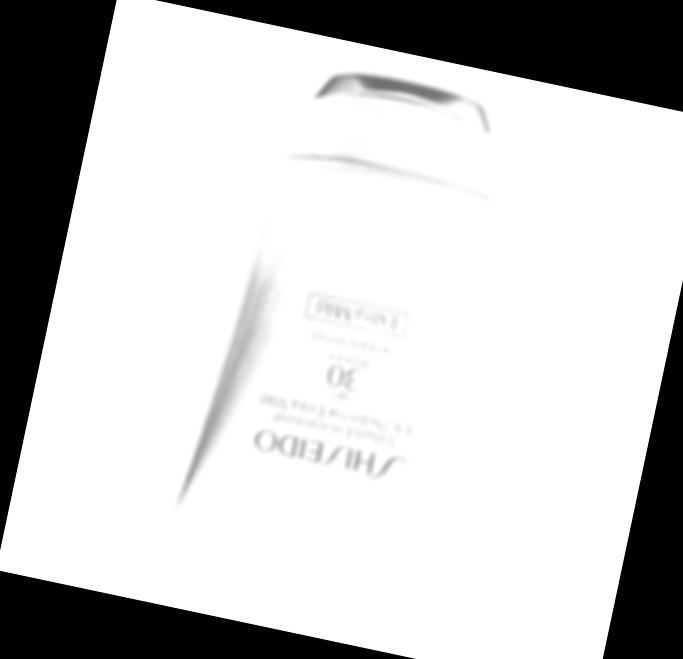cosmetic: (165, 47, 546, 595)
